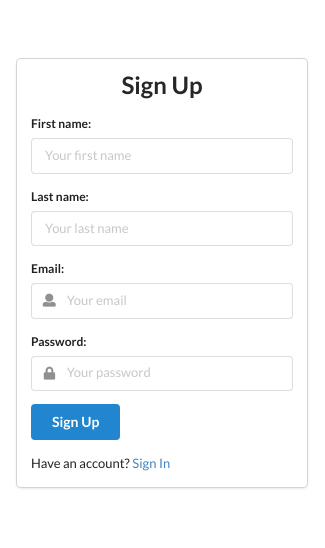
Scenario: Sign up form component › when submit invalid data › should display an error message when the user submits invalid email
Type "test" into the field labelled "Email:".
click(162, 301); type("test")  # box [31,283,293,319]
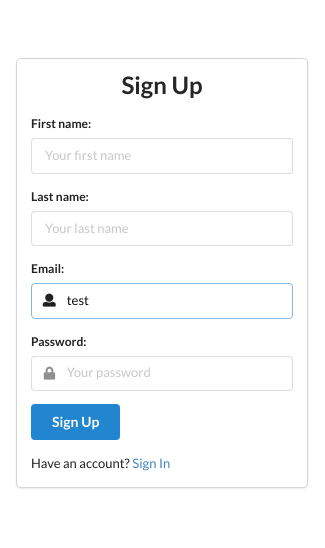
Click the button "Sign Up".
click(76, 422)  # box [31,404,120,440]
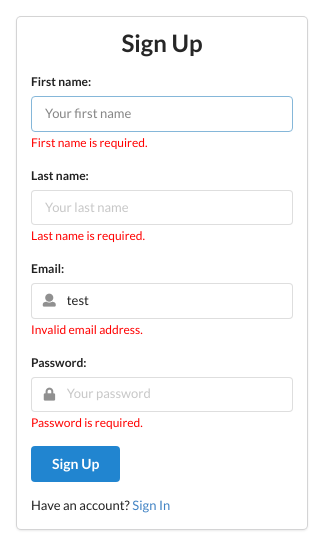
Result: the text "Invalid email address." is shown at [31,322,143,337]
